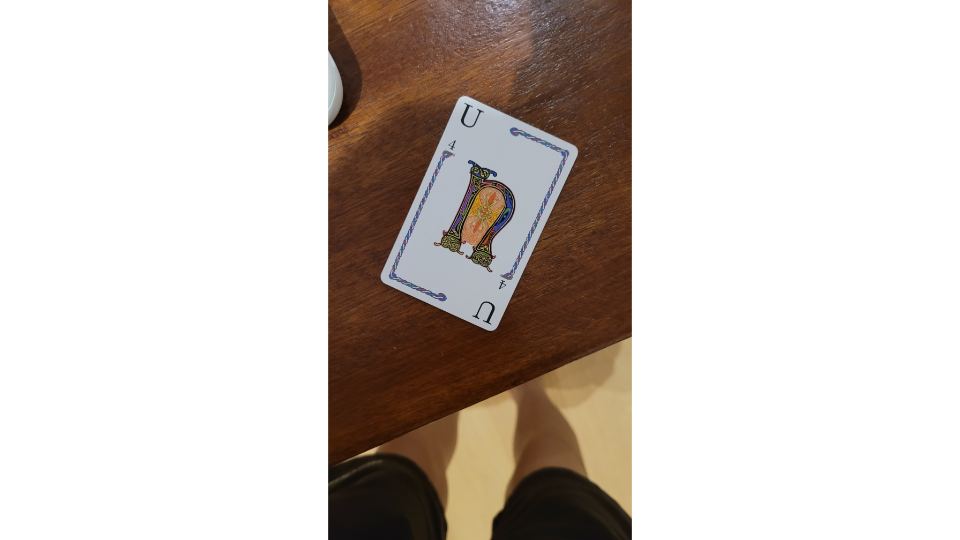U: (376, 91, 581, 335)
